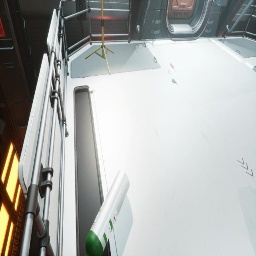0: (85, 170, 130, 256)
FireAlarm ,: (0, 17, 6, 37)
